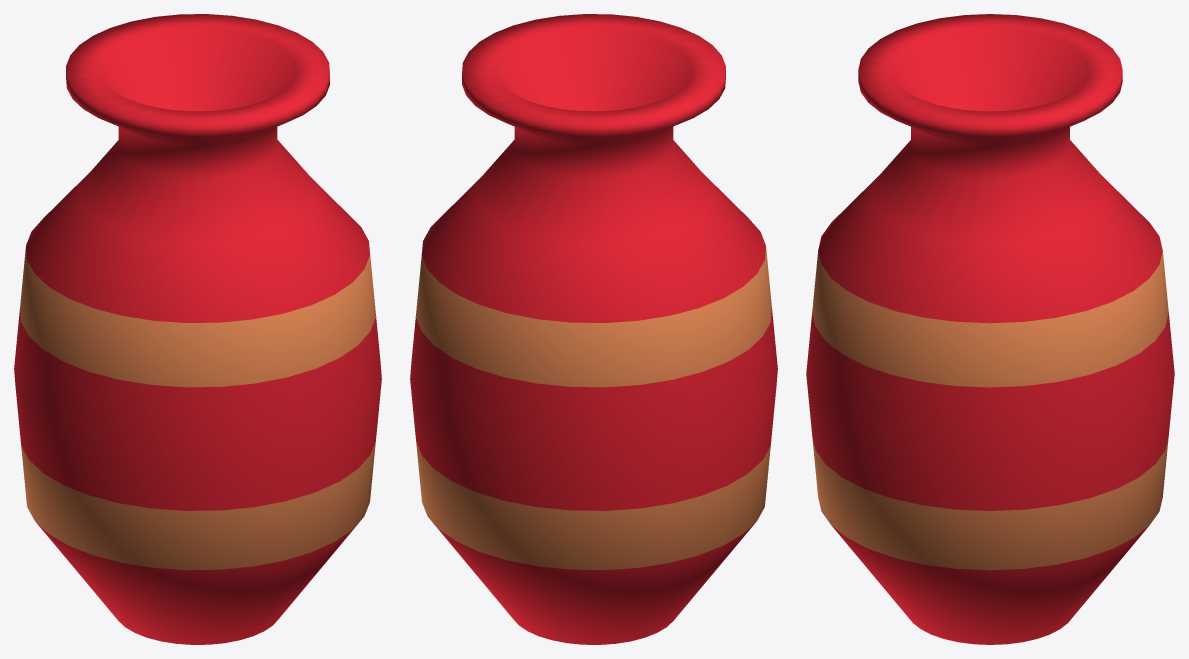
Rendered from bigVase.fbx.
3 views of the same model, side by side, from view 1: azimuth 30°, elevation 25°; view 2: azimuth 150°, elevation 25°; view 3: azimuth 270°, elevation 25° (orthographic).
Parts seen in each view (by area): view 1: Big Vase; view 2: Big Vase; view 3: Big Vase.
Boxes of the visible parts, x1,y1,x2,y2 form: Big Vase: [14, 14, 381, 644]; Big Vase: [410, 14, 777, 644]; Big Vase: [806, 14, 1174, 644].
Bounding box in the file's own units: 92.46 × 92.46 × 149.
